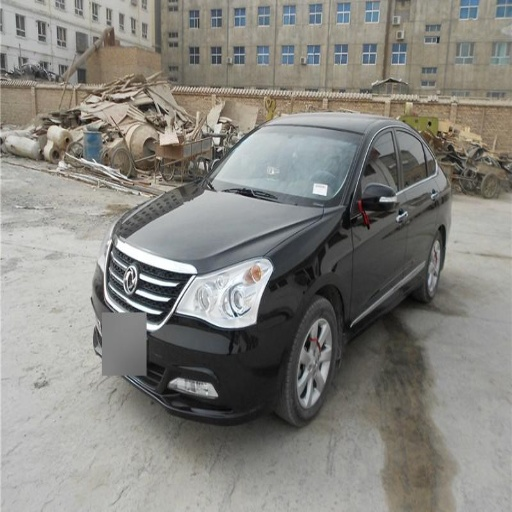front_bumper: (95, 249, 291, 423)
front_glass: (205, 126, 362, 207)
front_left_door: (351, 125, 408, 318)
